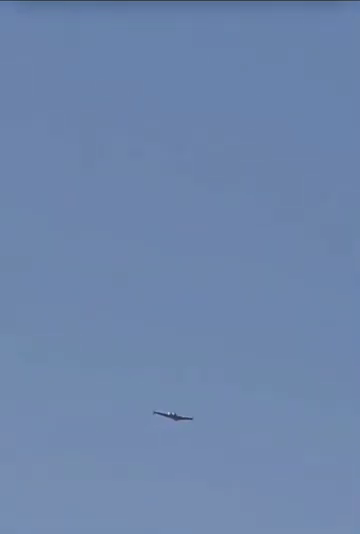shahed: (152, 408, 195, 423)
